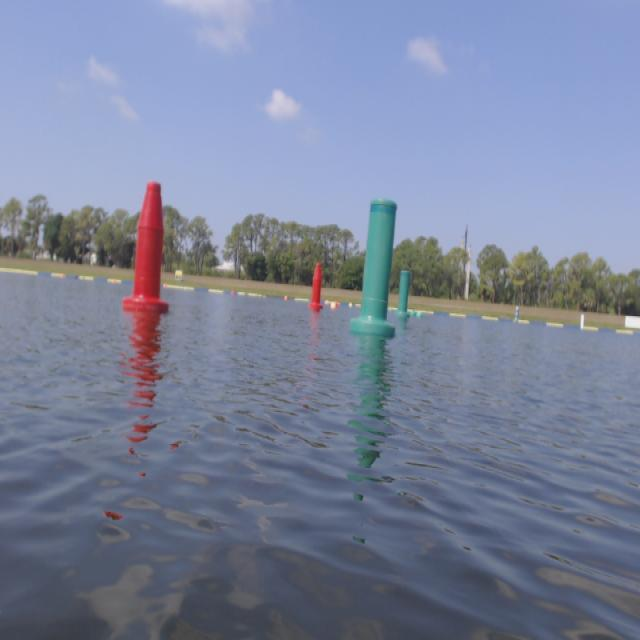Green_Buoy: (357, 196, 402, 340), (396, 266, 414, 322)
Red_Buoy: (123, 170, 183, 319), (306, 262, 326, 317)
